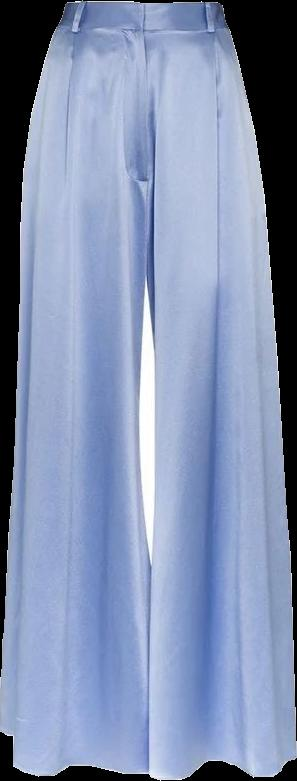Hemline: (0, 723, 149, 778), (146, 751, 296, 780)
Pantleg: (0, 2, 151, 775), (146, 2, 296, 780)
Waistline: (52, 21, 228, 36), (62, 0, 223, 12)
